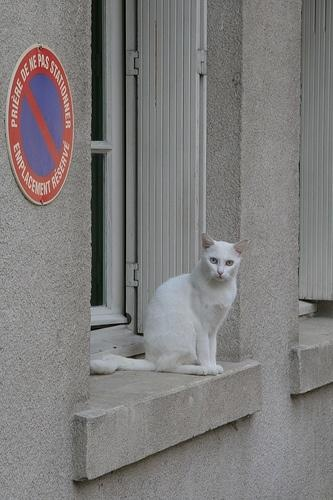cat: (93, 235, 250, 386)
